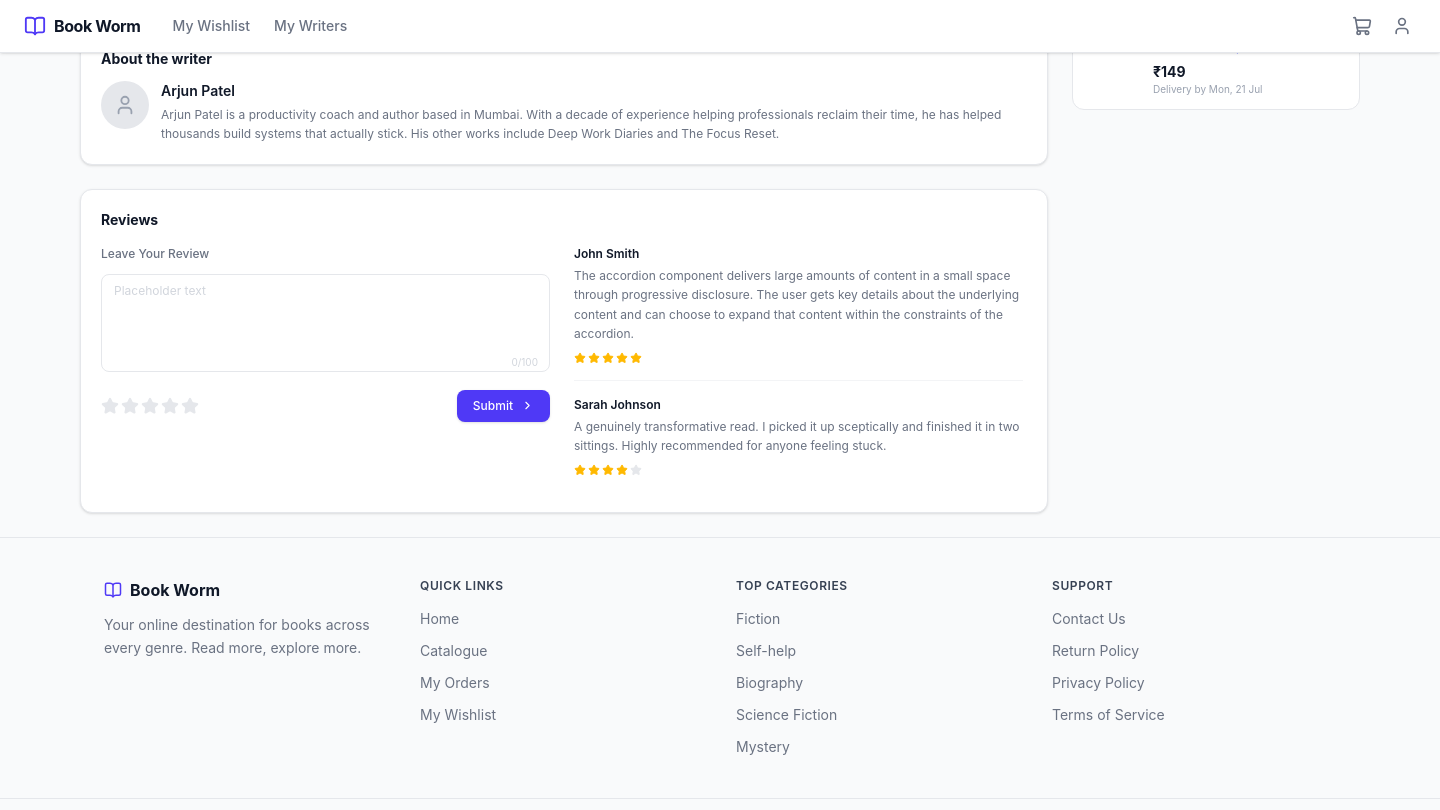
Scenario: ProductDetailPage › validates review submission errors and accepts valid review
(page scrolled)
Click the button "Submit": x=503, y=406 [457,390,550,422]
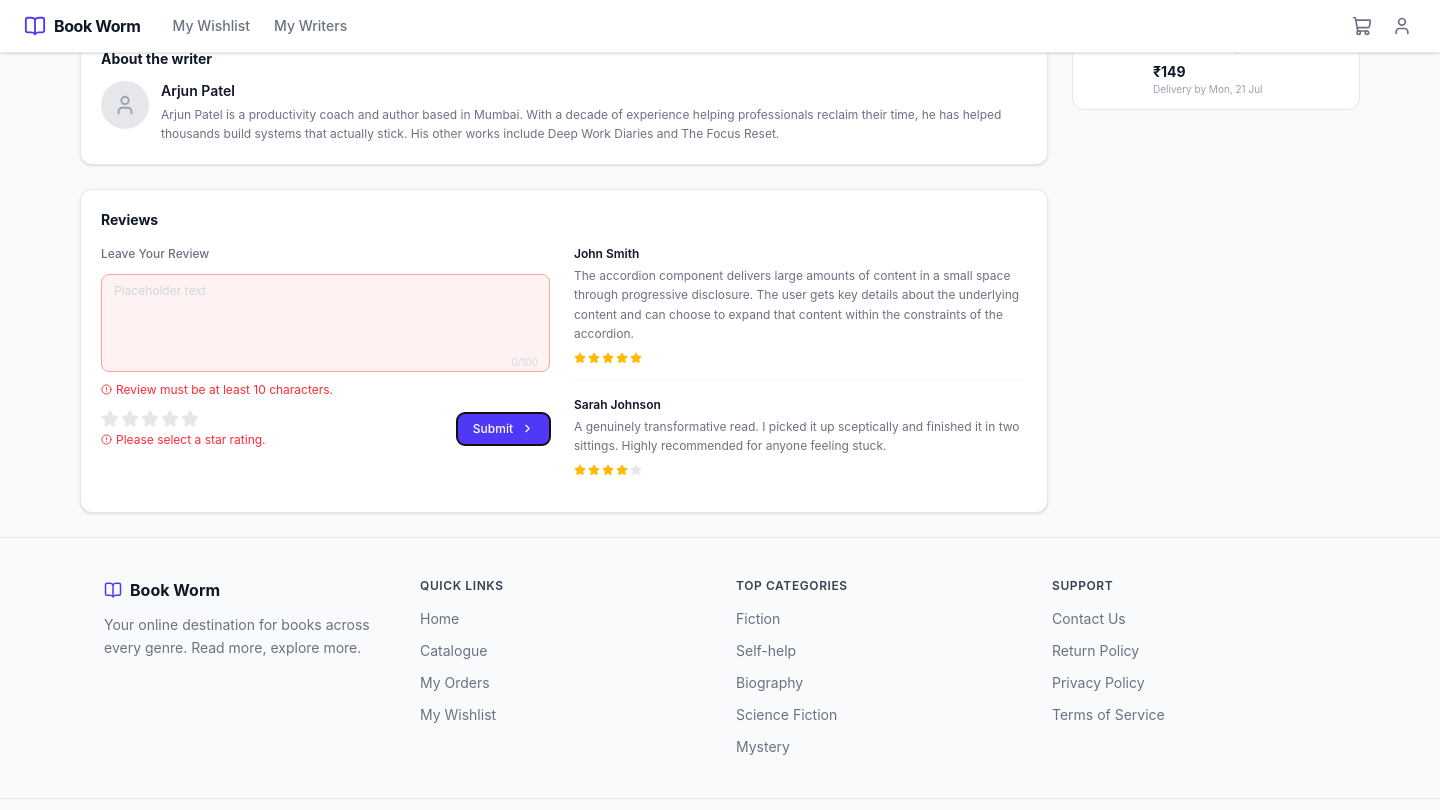
expect the text "Please select a star rating." is shown: met, box [101,432,266,448]
expect the text "Review must be at least 10 characters." is shown: met, box [101,382,333,397]
Click the button named "5 stars" below "Review must be at least 10 characters.": x=190, y=419 [181,410,199,428]
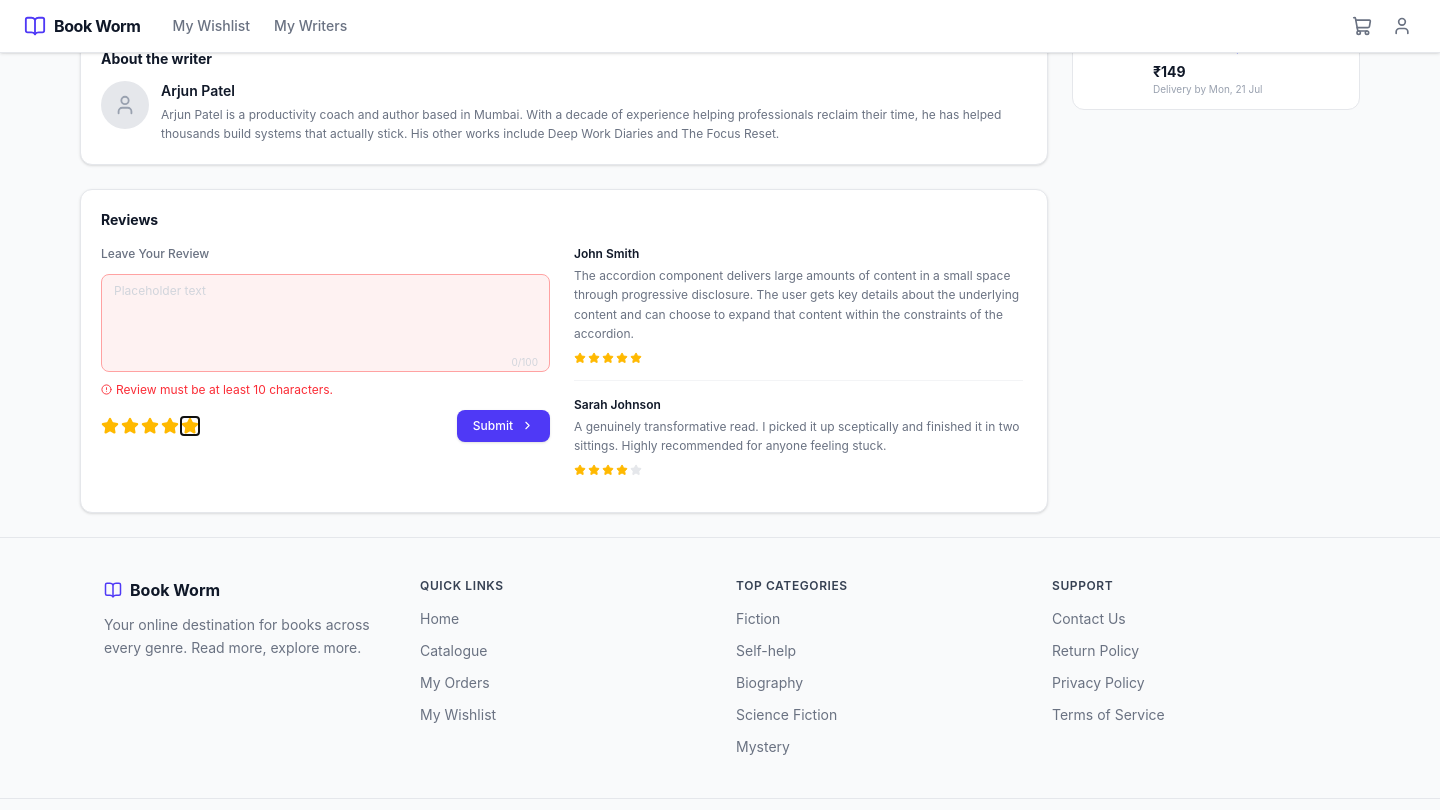
Note: Enter short review
In the text box with placeholder "Placeholder text": x=326, y=323 [101,274,550,372], type "Short"
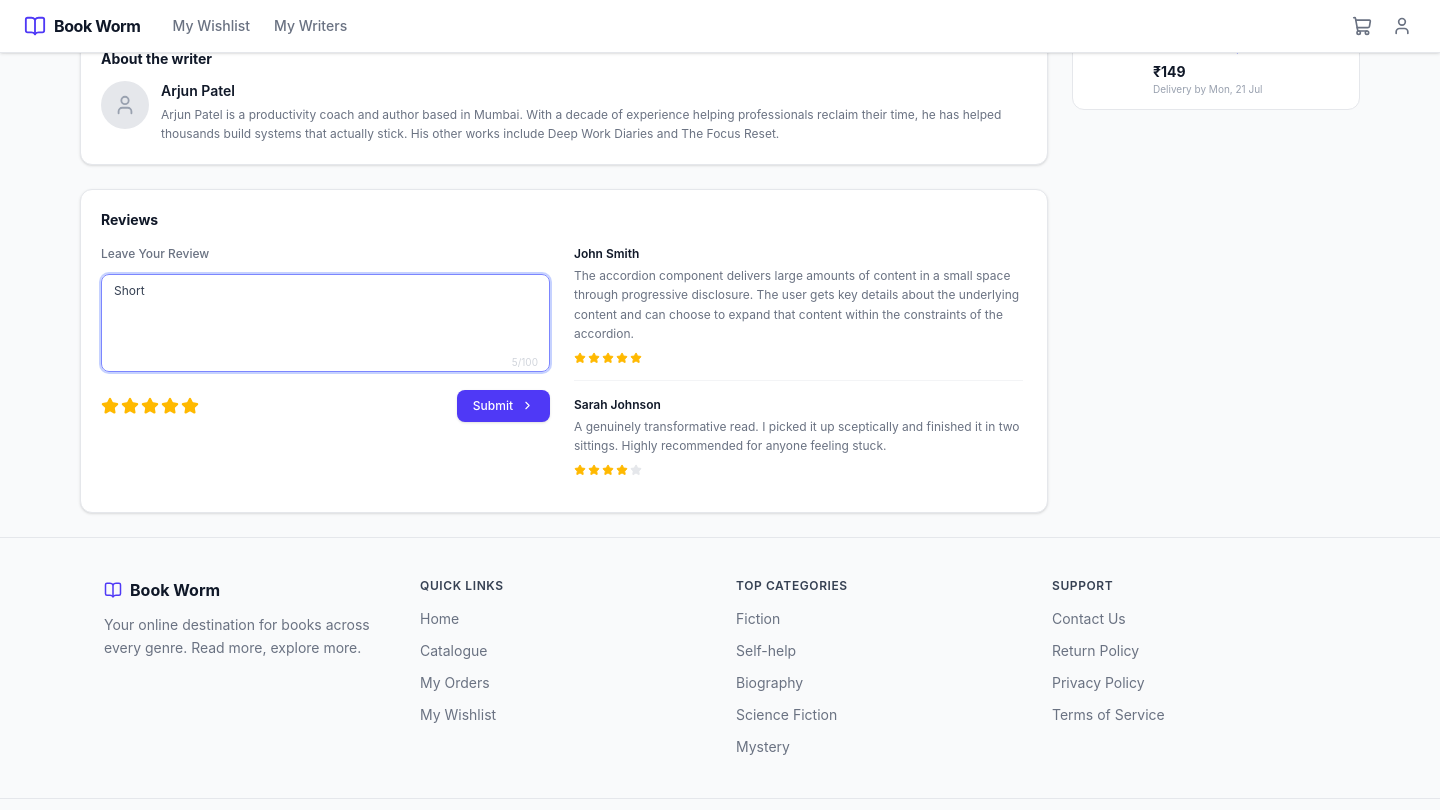
Click the button "Submit": x=503, y=406 [457,390,550,422]
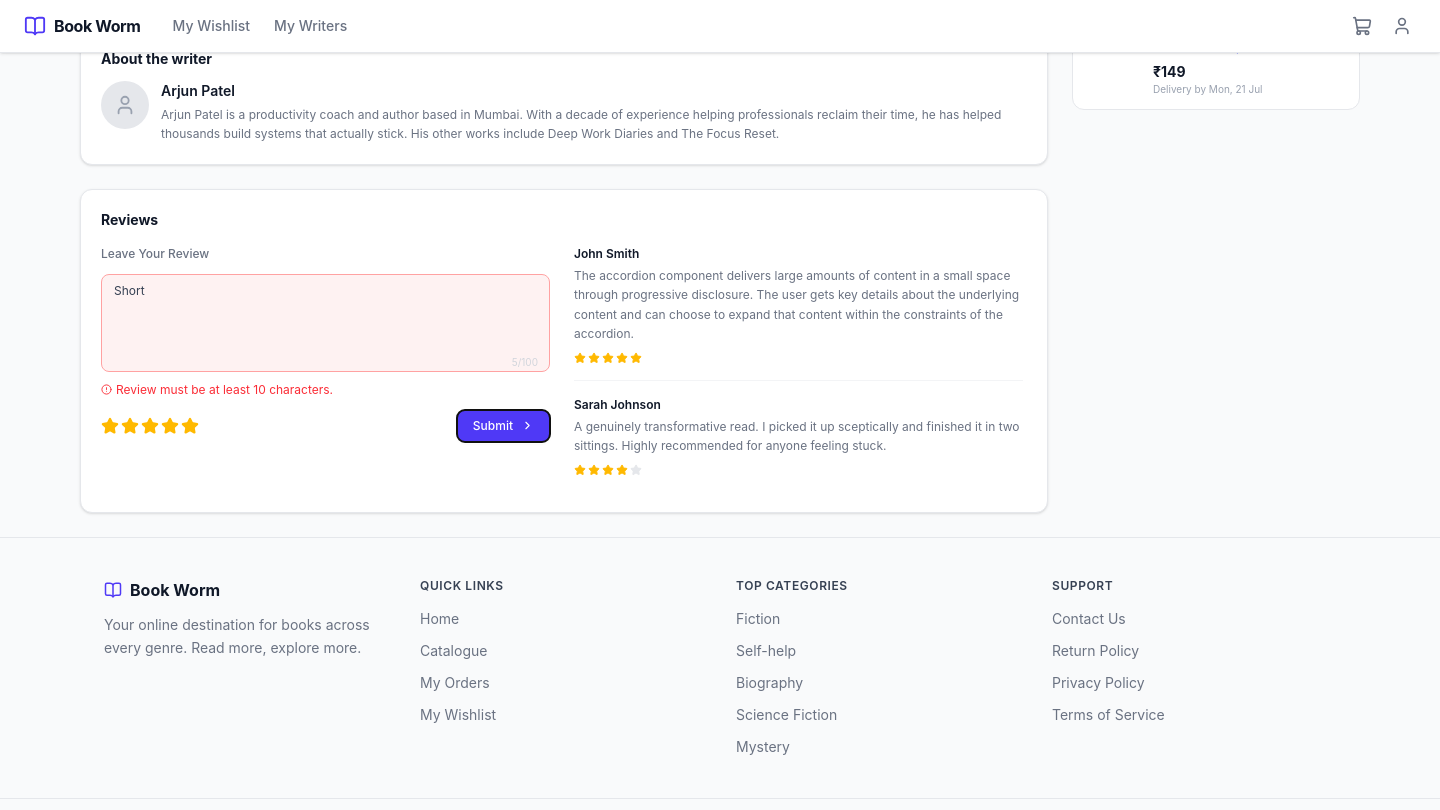
expect the text "Review must be at least 10 characters." is shown: met, box [101,382,333,397]
Note: Enter valid review
Replace the text in the text box with placeholder "Placeholder text" with "This is an amazing and insightful book!": x=326, y=323 [101,274,550,372]
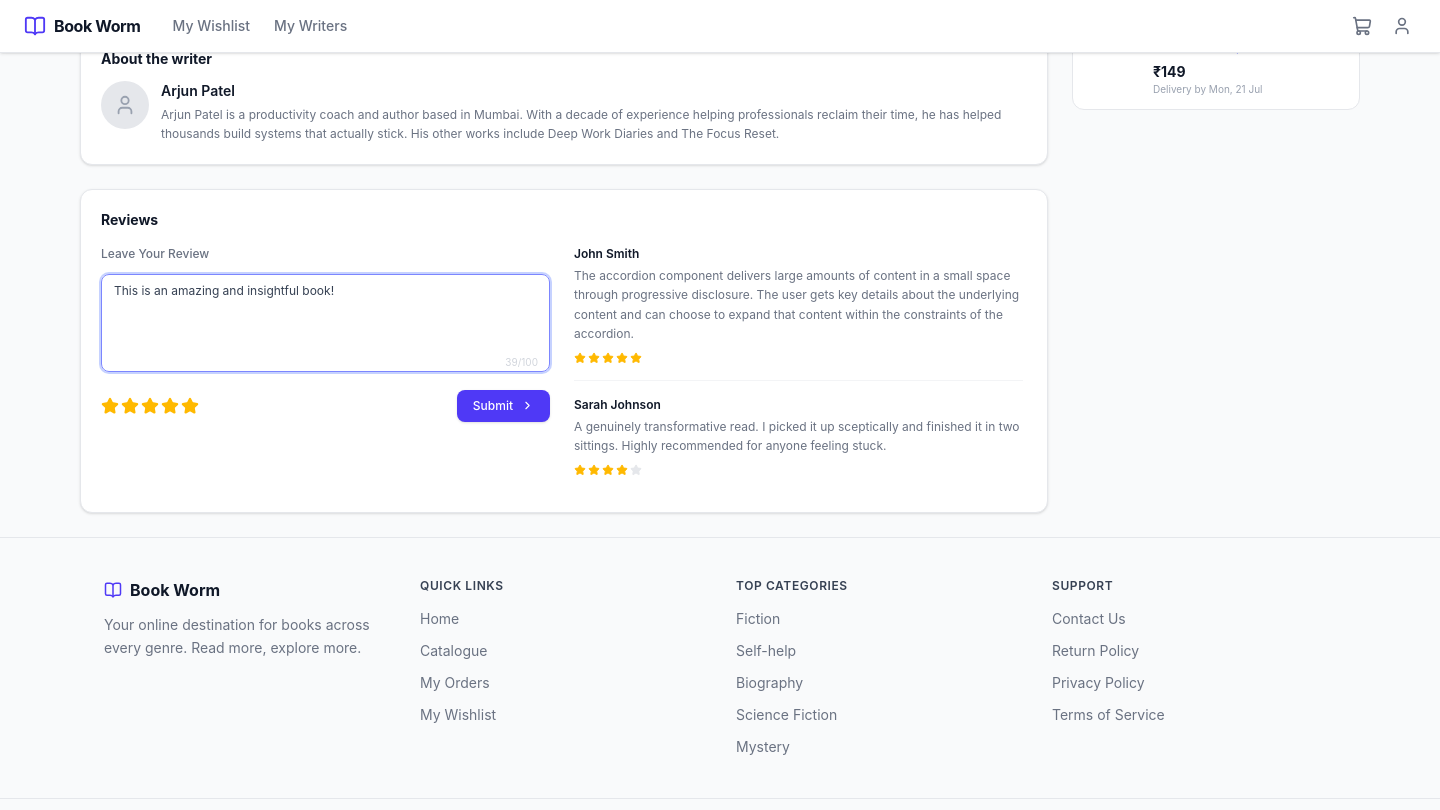
Click the button "Submit": x=503, y=406 [457,390,550,422]
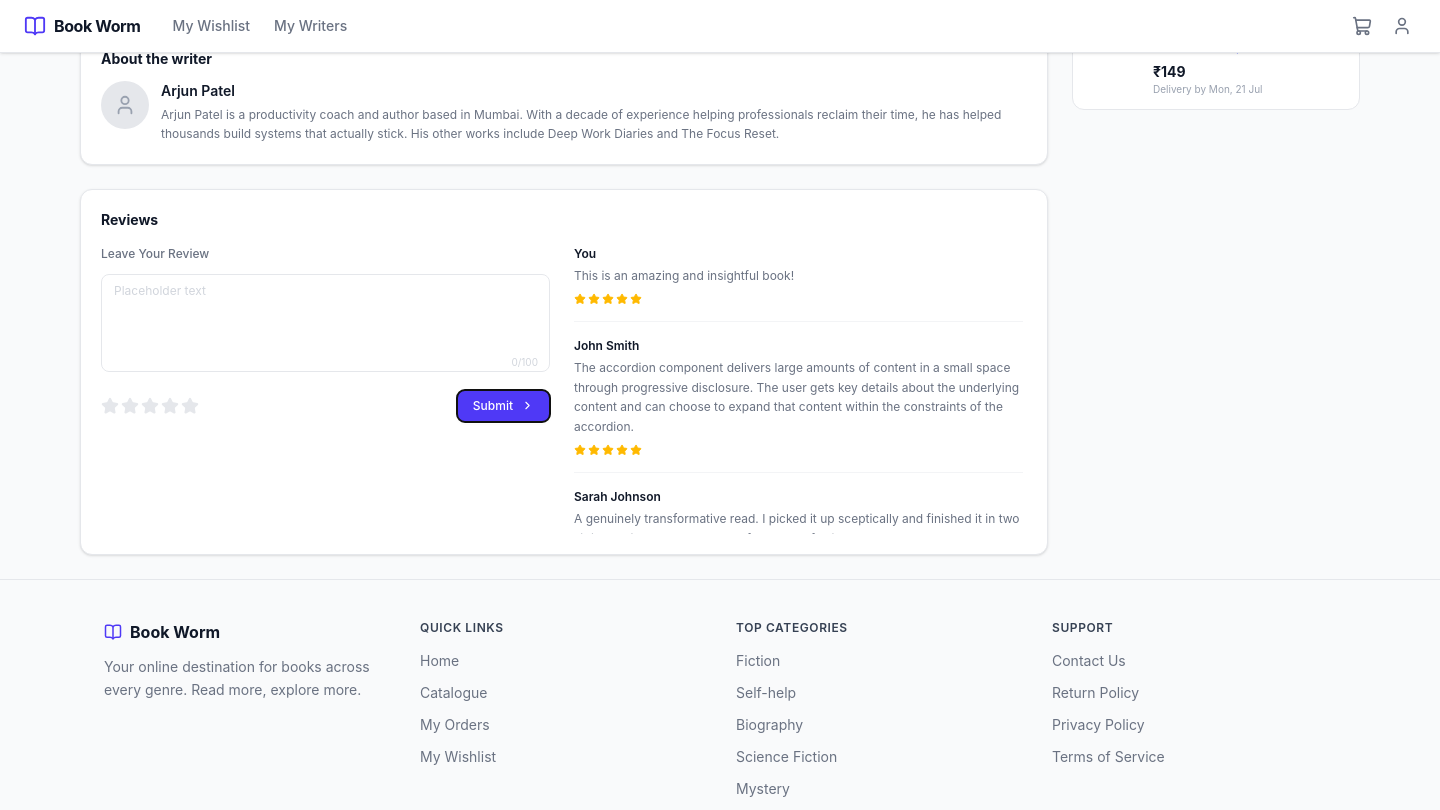
expect the text "This is an amazing and insightful book!" is shown: met, box [574,268,794,283]
expect the text "You" is shown: met, box [574,246,596,261]
